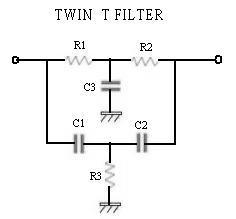cap1: (133, 131, 151, 156), (98, 77, 124, 94), (70, 132, 87, 156)
res2: (102, 160, 117, 190), (64, 54, 92, 67), (130, 56, 160, 67)
